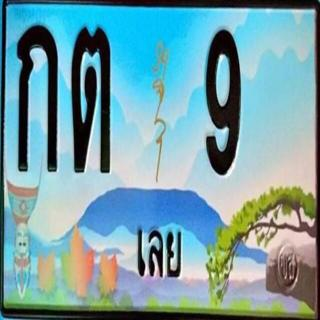A01: (12, 20, 65, 178)
A21: (65, 20, 116, 181)
N09: (191, 24, 251, 179)
P22: (132, 218, 183, 281)
